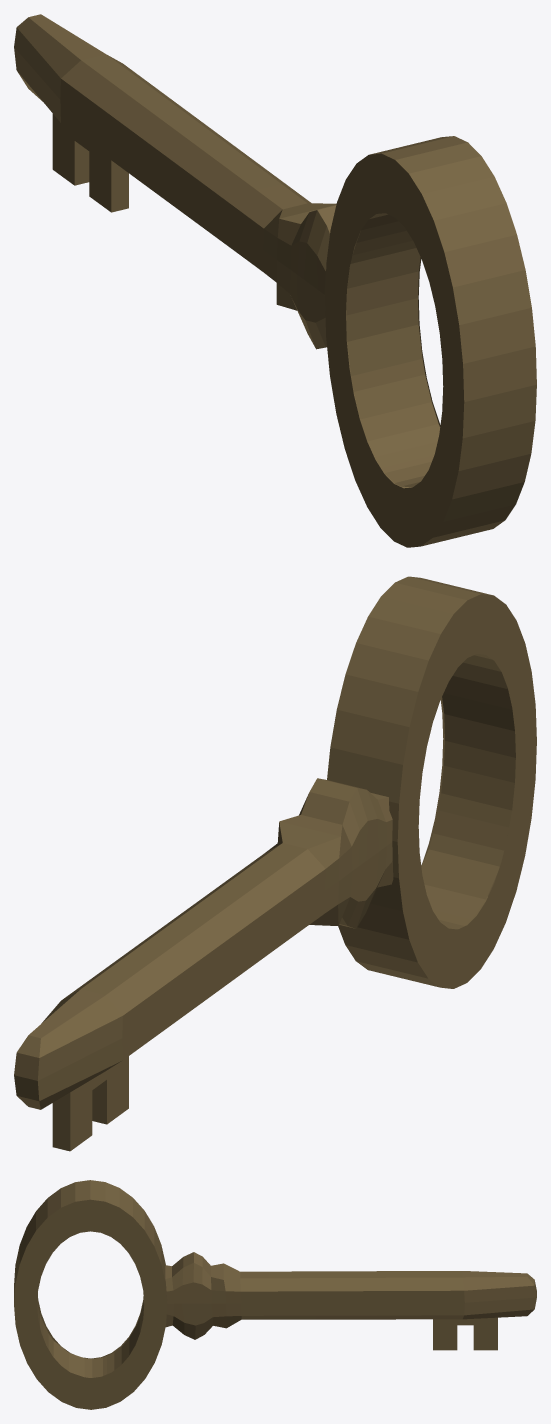
The model's file is key.glb.
3 renders of one model, top to bottom at view 1: azimuth 30°, elevation 25°; view 2: azimuth 150°, elevation 25°; view 3: azimuth 270°, elevation 25°, orthographic. The views are drawn at different scales.
Parts seen in each view (by area): view 1: Cube; view 2: Cube; view 3: Cube.
Part boxes in pixels (box(x1,y1,x2,y2)): Cube: box(14, 14, 536, 547); Cube: box(14, 576, 536, 1151); Cube: box(14, 1180, 536, 1409).
Size of the model in its own units: 0.2243 by 1.12 by 2.52.
